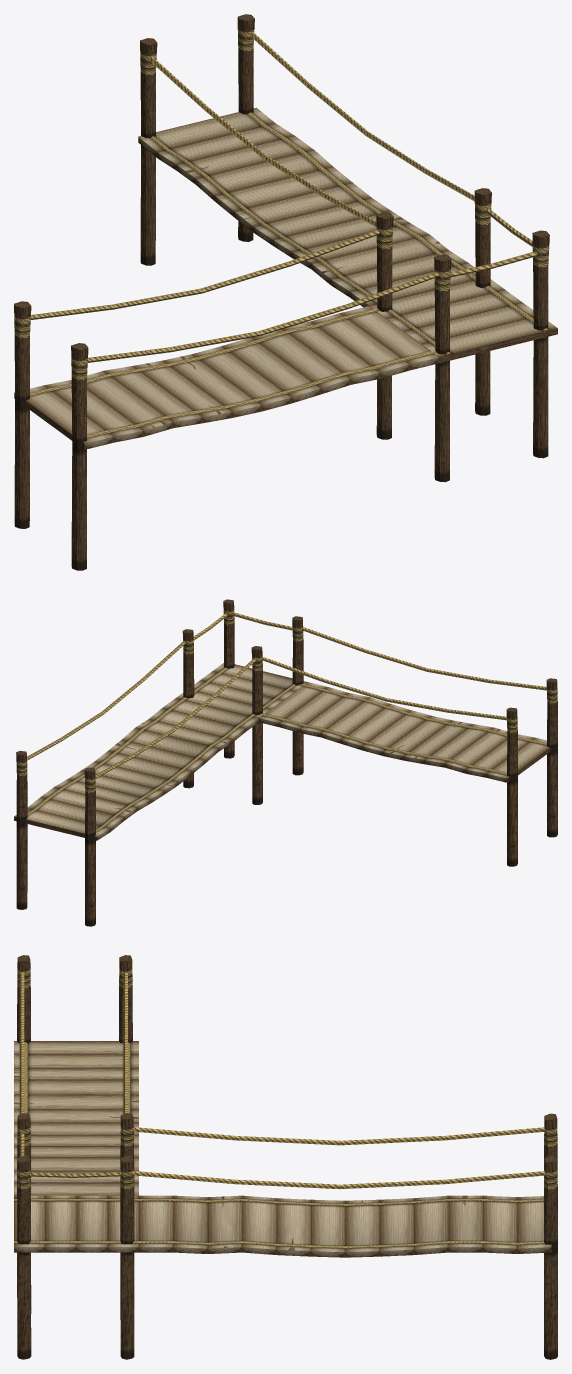
File: p2_platform1_L_LOD0.fbx
The picture shows the model from 3 angles, top to bottom: view 1: azimuth 30°, elevation 25°; view 2: azimuth 150°, elevation 25°; view 3: azimuth 270°, elevation 25°; orthographic projection. The views are drawn at different scales.
Visible parts, largest first — view 1: mesh; view 2: mesh; view 3: mesh.
Part boxes in pixels (x1,y1,x2,y2): mesh: [14, 14, 557, 570]; mesh: [14, 599, 557, 926]; mesh: [14, 955, 557, 1359].
Size of the model in its own units: 405 by 179 by 446.
